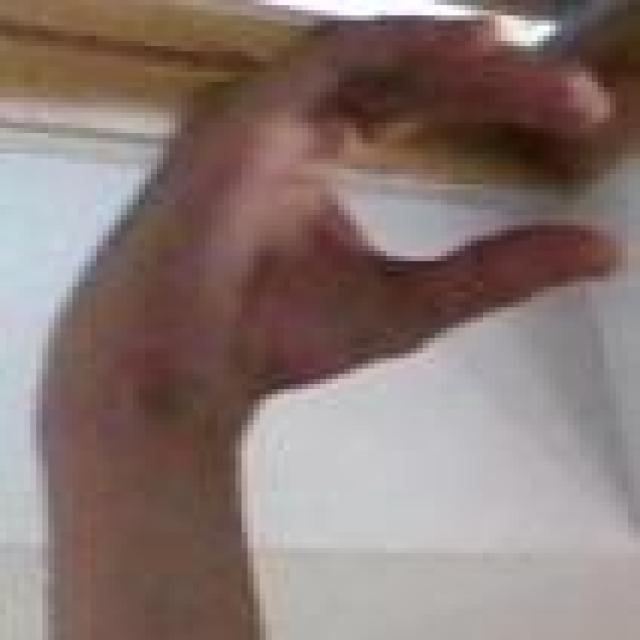C: (0, 1, 640, 428)
